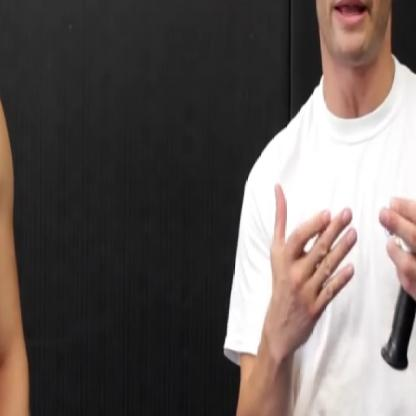knife: (373, 67, 415, 379)
